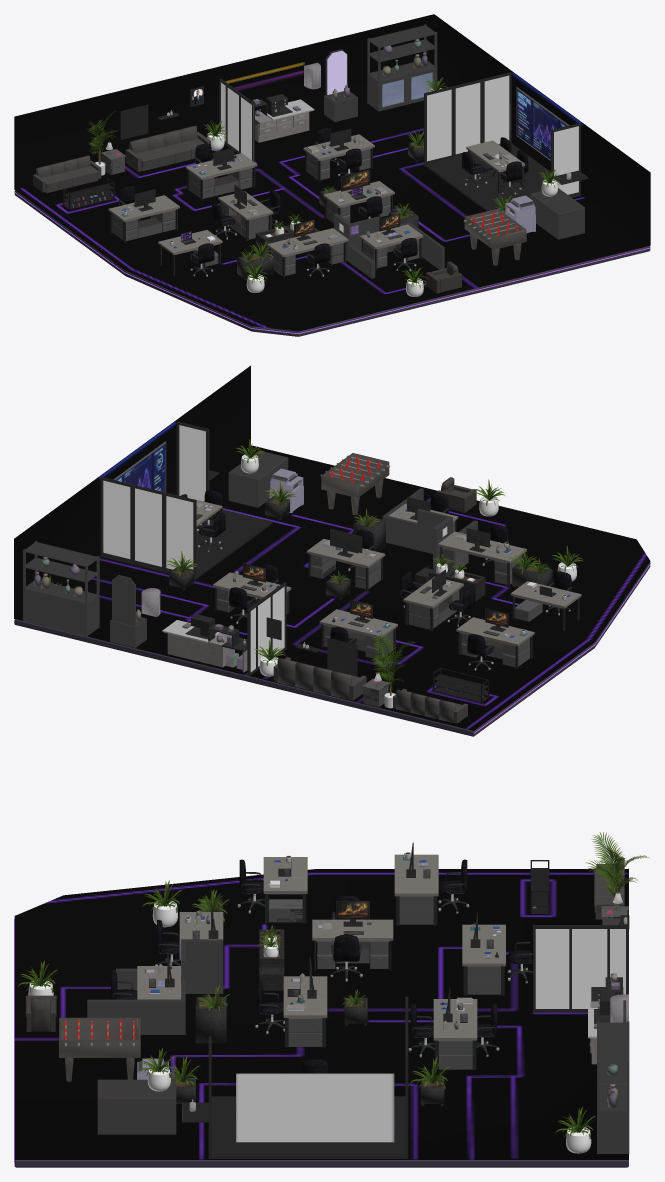
File: office.desktop.7f5bd60003b7.glb
The picture shows the model from 3 angles, top to bottom: view 1: azimuth 30°, elevation 25°; view 2: azimuth 150°, elevation 25°; view 3: azimuth 270°, elevation 25°; orthographic projection. The views are drawn at different scales.
Parts seen in each view (by area): view 1: Plane.005, wall 1, Plane.006, Plane.020, Cube.002, Desktop plinth, Cube.003, Plane.031, Cube.021, Cube.016, instance_1.002, instance_0.002 (+13 smaller); view 2: Plane.005, wall 1, Plane.006, Plane.020, Desktop plinth, Cube.002, Cube.003, Cube.016, Cube.021, Plane.031, instance_0.002, instance_1.002 (+12 smaller); view 3: Plane.005, wall 1, Plane.006, Cube.003, Plane.020, Desktop plinth, Cube.016, instance_1.002, instance_0.002, instance_2.002, instance_3.002, model_4 (+15 smaller).
Boxes of the visible parts, box(x1,y1,x2,y2) form: Plane.005: box(14, 14, 650, 331); wall 1: box(324, 24, 584, 278); Plane.006: box(219, 72, 580, 211); Plane.020: box(112, 149, 419, 276); Cube.002: box(33, 125, 210, 193); Desktop plinth: box(14, 190, 650, 336); Cube.003: box(158, 191, 423, 277); Plane.031: box(106, 62, 588, 239); Cube.021: box(252, 94, 314, 142); Cube.016: box(237, 141, 504, 280); instance_1.002: box(108, 195, 179, 242); instance_0.002: box(185, 153, 257, 200); Plane.005: box(14, 365, 650, 730); wall 1: box(23, 441, 477, 647); Plane.006: box(100, 421, 286, 676); Plane.020: box(217, 521, 529, 667); Desktop plinth: box(14, 562, 650, 736); Cube.002: box(273, 657, 467, 723); Cube.003: box(389, 503, 581, 631); Cube.016: box(169, 496, 552, 601); Cube.021: box(162, 614, 247, 672); Plane.031: box(141, 470, 536, 686); instance_0.002: box(319, 609, 397, 660); instance_1.002: box(456, 617, 534, 669); Plane.005: box(14, 869, 628, 1159); wall 1: box(59, 939, 629, 1153); Plane.006: box(208, 925, 628, 1158); Cube.003: box(137, 857, 393, 999); Plane.020: box(288, 896, 500, 1069); Desktop plinth: box(14, 1160, 628, 1167); Cube.016: box(173, 899, 444, 1106); instance_1.002: box(394, 854, 438, 925); instance_0.002: box(462, 924, 505, 995); instance_2.002: box(433, 999, 477, 1069); instance_3.002: box(283, 976, 327, 1047); model_4: box(586, 832, 648, 906).
Size of the model in its own units: 14.51 by 2.6 by 13.42.
Materials: 33 (28 with a texture image).
